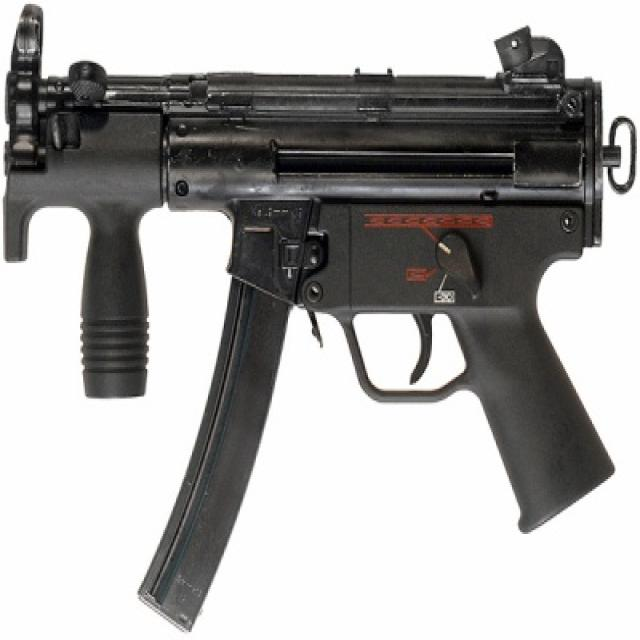SMG: (0, 4, 638, 634)
